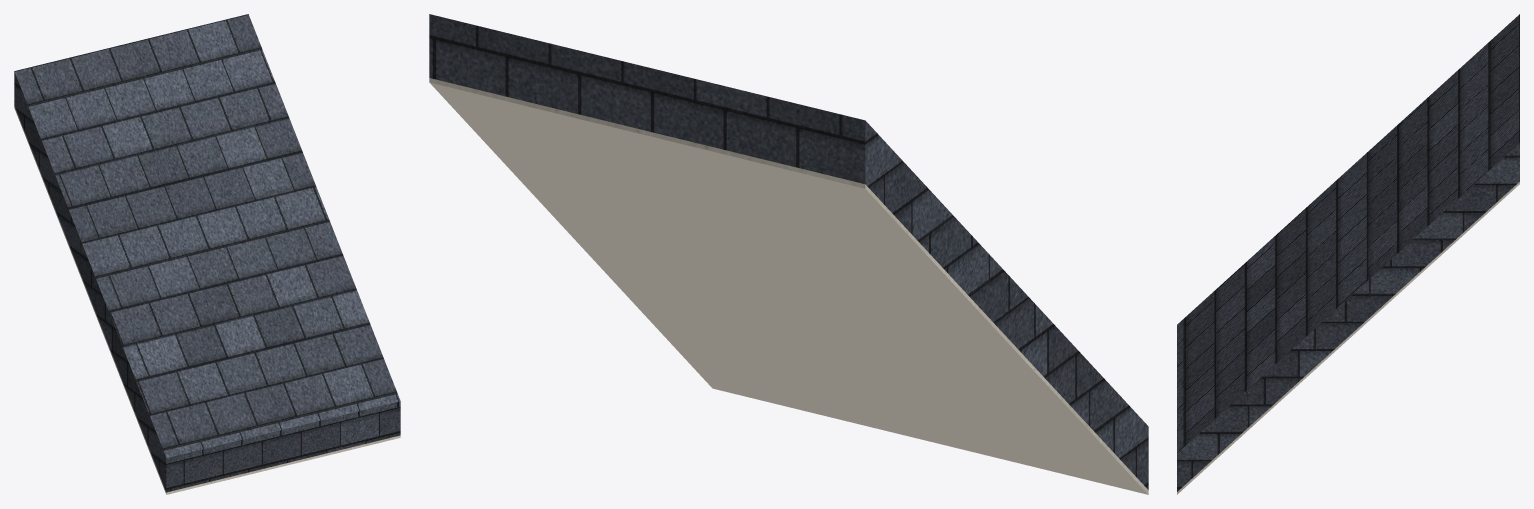
File: garage_roof_house.glb
3 views of the same model, side by side, from view 1: azimuth 30°, elevation 25°; view 2: azimuth 150°, elevation 25°; view 3: azimuth 270°, elevation 25° (orthographic). The views are drawn at different scales.
Parts seen in each view (by area): view 1: garage_roof_house_shingle, garage_roof_house_plaster; view 2: garage_roof_house_plaster, garage_roof_house_shingle; view 3: garage_roof_house_shingle, garage_roof_house_plaster.
Boxes of the visible parts, x1,y1,x2,y2 form: garage_roof_house_shingle: (14, 14, 400, 492); garage_roof_house_plaster: (14, 106, 400, 494); garage_roof_house_plaster: (429, 78, 1148, 494); garage_roof_house_shingle: (429, 14, 1148, 489); garage_roof_house_shingle: (1177, 14, 1519, 491); garage_roof_house_plaster: (1177, 182, 1519, 494).
Size of the model in its own units: 2 by 2.55 by 2.25.
Materials: 2 (2 with a texture image).
